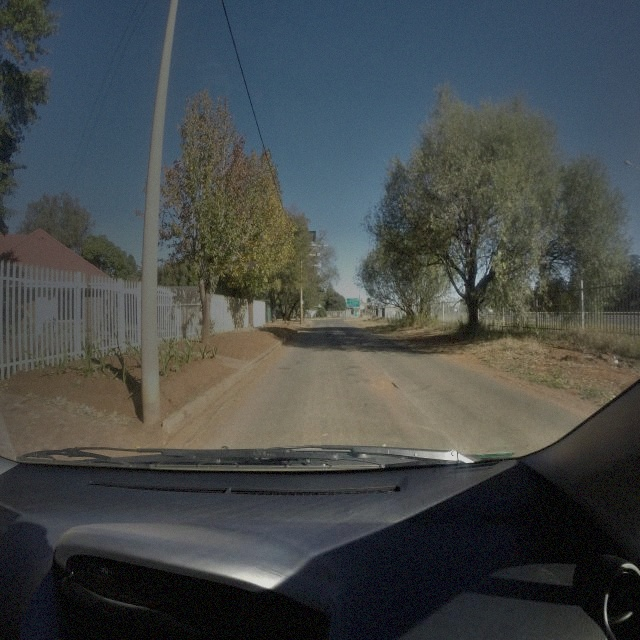pothole: (370, 377, 398, 393)
